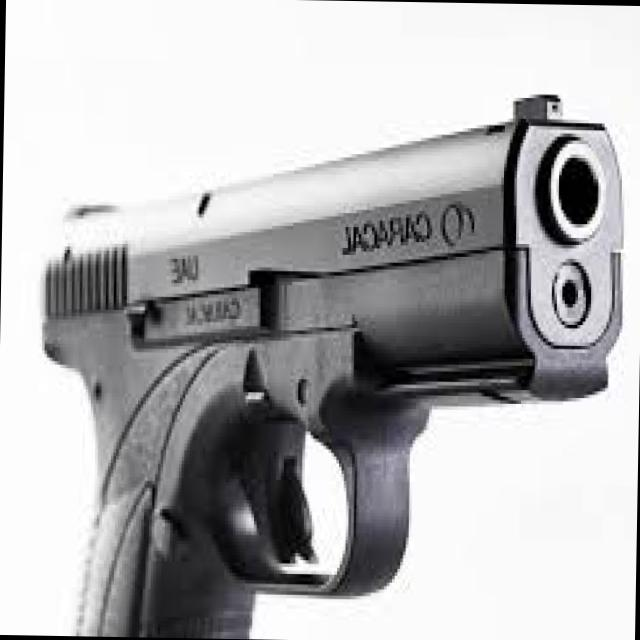Gun: (18, 74, 639, 640)
